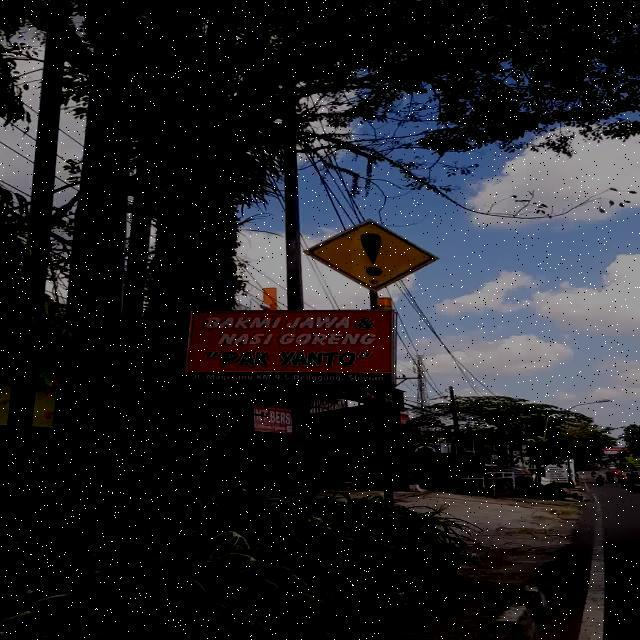Hati-Hati: (304, 218, 441, 292)
